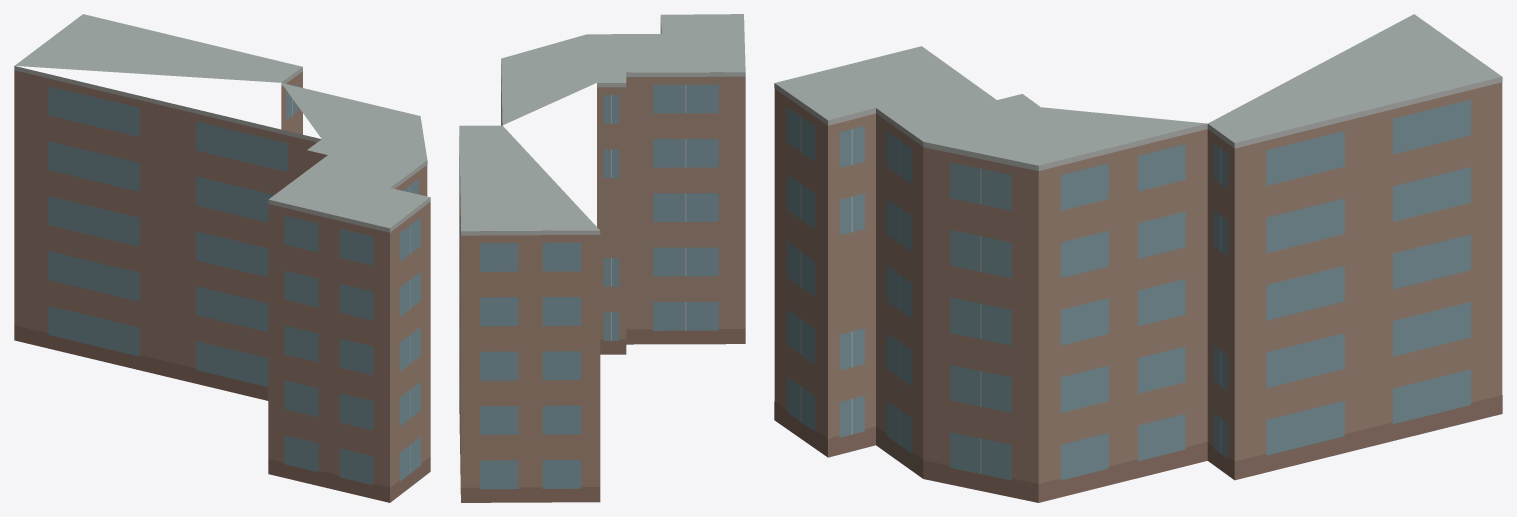
The model's file is survey-upis-32765162.glb.
3 renders of one model, left to right at view 1: azimuth 30°, elevation 25°; view 2: azimuth 150°, elevation 25°; view 3: azimuth 270°, elevation 25°, orthographic. The views are drawn at different scales.
Parts seen in each view (by area): view 1: survey-upis-32765162.tmp; view 2: survey-upis-32765162.tmp; view 3: survey-upis-32765162.tmp.
Part boxes in pixels (left/top/right/bottom): survey-upis-32765162.tmp: left=14, top=14, right=430, bottom=502; survey-upis-32765162.tmp: left=459, top=14, right=745, bottom=502; survey-upis-32765162.tmp: left=774, top=14, right=1502, bottom=502.
Bounding box in the file's own units: 14.73 × 15.25 × 29.85.
